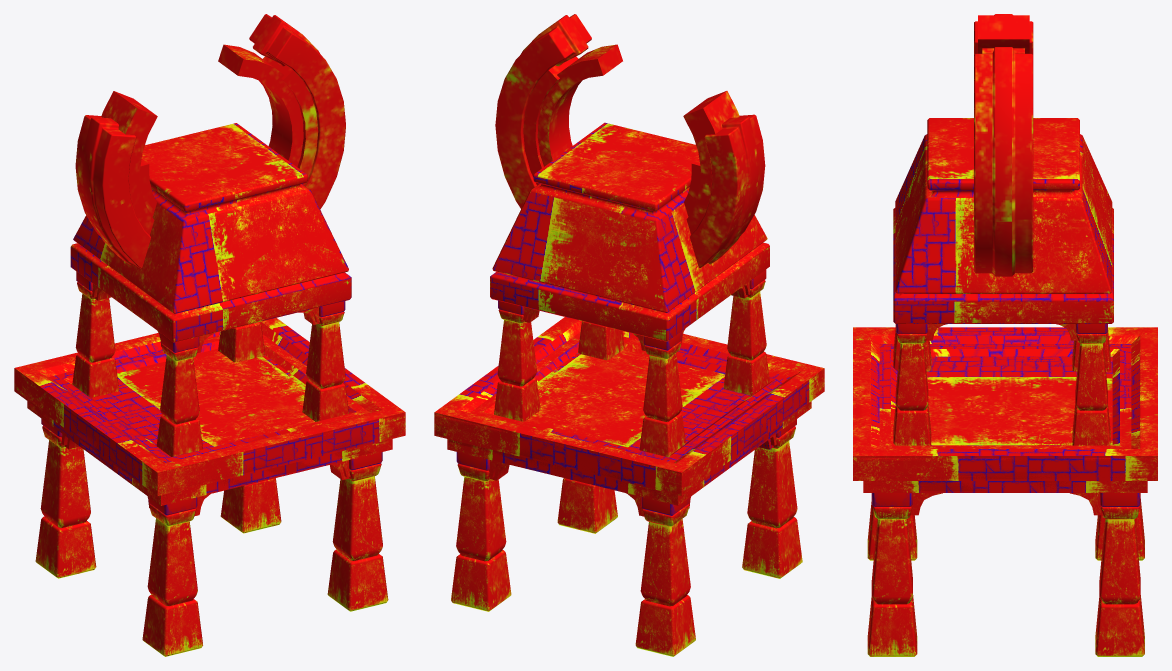
Rendered from Tower1.fbx.
3 renders of one model, left to right at view 1: azimuth 30°, elevation 25°; view 2: azimuth 150°, elevation 25°; view 3: azimuth 270°, elevation 25°, orthographic. The views are drawn at different scales.
Parts seen in each view (by area): view 1: Roof, COL_Platform1, Pillars, Order_Crown, Pillars_Smaller, Platform1; view 2: Roof, COL_Platform1, Pillars, Order_Crown, Pillars_Smaller, Platform1; view 3: COL_Platform1, Roof, Order_Crown, Pillars, Platform1, Pillars_Smaller.
Boxes of the visible parts, left/top/right/bottom form: Roof: left=70, top=123, right=351, bottom=342; COL_Platform1: left=14, top=318, right=405, bottom=505; Pillars: left=35, top=418, right=388, bottom=656; Order_Crown: left=75, top=14, right=345, bottom=268; Pillars_Smaller: left=72, top=271, right=348, bottom=456; Platform1: left=15, top=318, right=403, bottom=503; Roof: left=490, top=122, right=769, bottom=341; COL_Platform1: left=434, top=317, right=824, bottom=505; Pillars: left=451, top=419, right=802, bottom=656; Order_Crown: left=495, top=14, right=765, bottom=267; Pillars_Smaller: left=494, top=269, right=769, bottom=456; Platform1: left=436, top=317, right=817, bottom=503; COL_Platform1: left=853, top=327, right=1157, bottom=492; Roof: left=893, top=118, right=1113, bottom=323; Order_Crown: left=974, top=14, right=1033, bottom=276; Pillars: left=867, top=493, right=1144, bottom=656; Platform1: left=855, top=328, right=1155, bottom=491; Pillars_Smaller: left=893, top=324, right=1110, bottom=445.
Bounding box in the file's own units: 1619 × 3409 × 1607.
